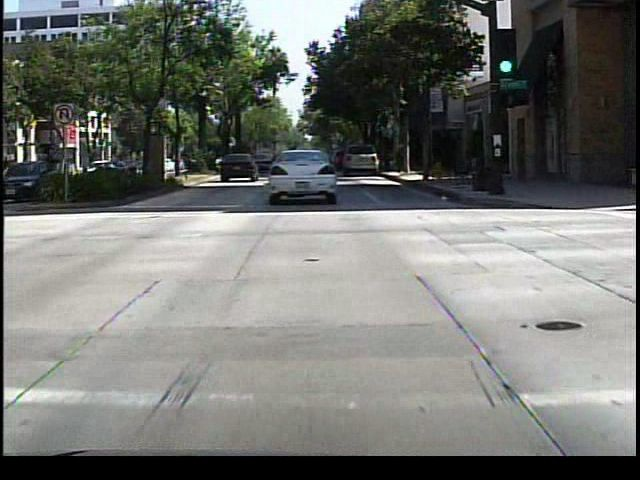person: (3, 153, 17, 178)
